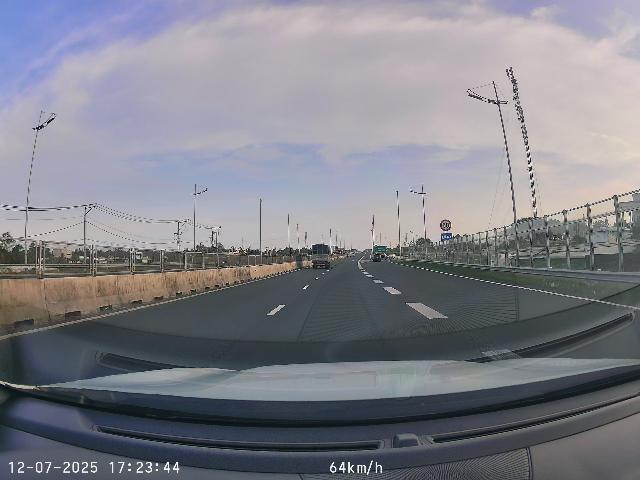127-toc-do-toi-da-50: (440, 219, 452, 231)
